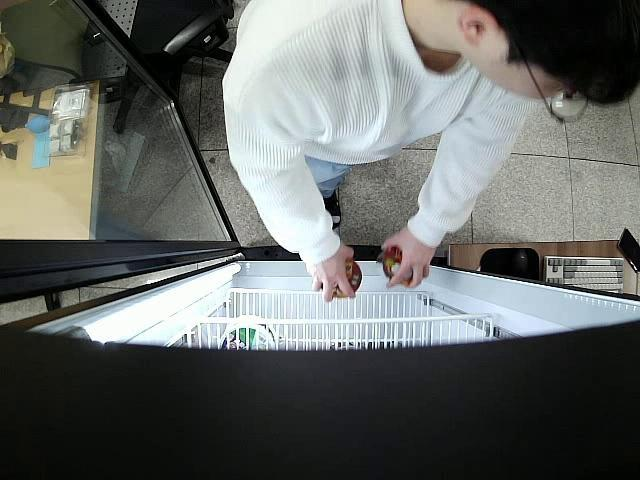06_nuguri_S: (320, 258, 362, 299), (380, 246, 413, 286)
